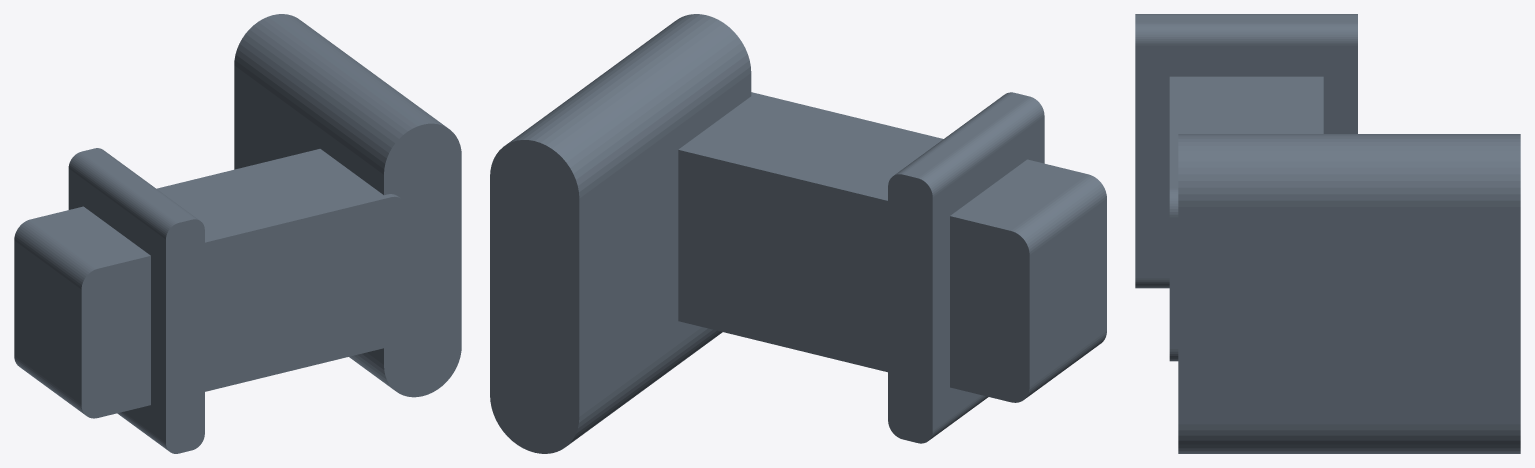
The model's file is button-plunger-SW1.glb.
3 renders of one model, left to right at view 1: azimuth 30°, elevation 25°; view 2: azimuth 150°, elevation 25°; view 3: azimuth 270°, elevation 25°, orthographic. The views are drawn at different scales.
Visible parts, largest first — view 1: button-plunger-SW1; view 2: button-plunger-SW1; view 3: button-plunger-SW1.
Boxes of the visible parts, x1=… form: button-plunger-SW1: x1=14, y1=14, x2=461, y2=453; button-plunger-SW1: x1=490, y1=14, x2=1106, y2=453; button-plunger-SW1: x1=1135, y1=14, x2=1520, y2=453.
Bounding box in the file's own units: 5.92 × 4 × 4.5.
